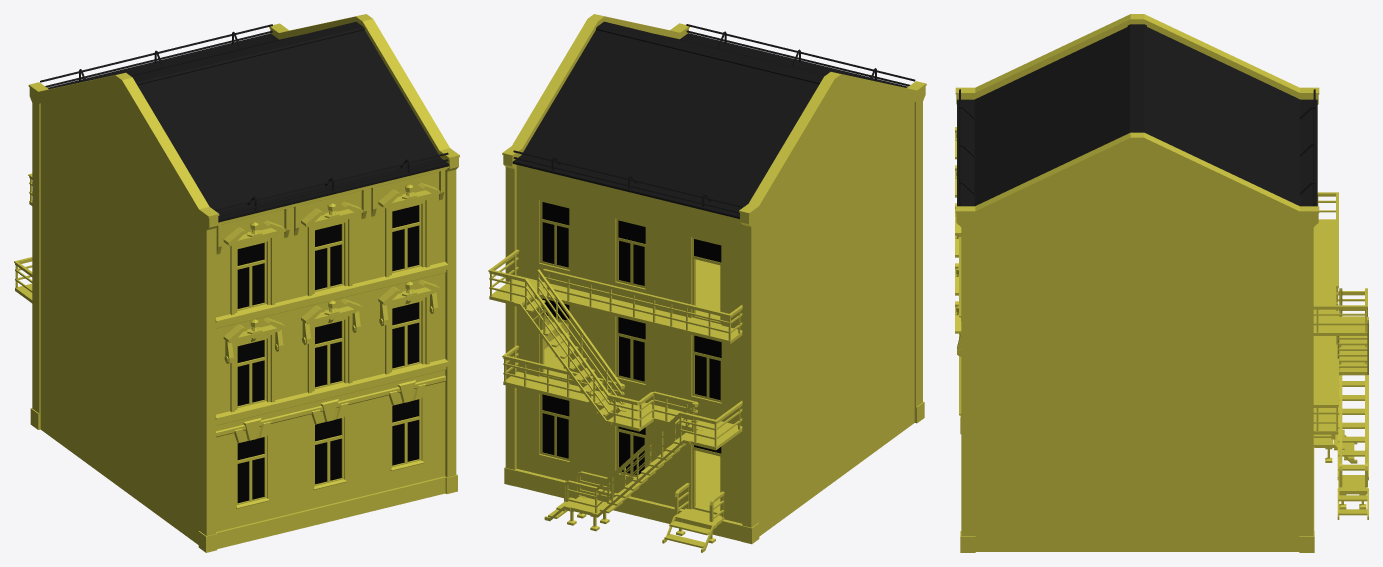
Rendered from SM_first_house_1.fbx.
The picture shows the model from 3 angles, left to right: view 1: azimuth 30°, elevation 25°; view 2: azimuth 150°, elevation 25°; view 3: azimuth 270°, elevation 25°; orthographic projection. The views are drawn at different scales.
Visible parts, largest first — view 1: Cylinder_27; view 2: Cylinder_27; view 3: Cylinder_27.
Boxes of the visible parts, x1,y1,x2,y2 form: Cylinder_27: (14,14,459,552); Cylinder_27: (488,14,926,552); Cylinder_27: (955,14,1368,552).
Bounding box in the file's own units: 814 × 1271 × 1147.
